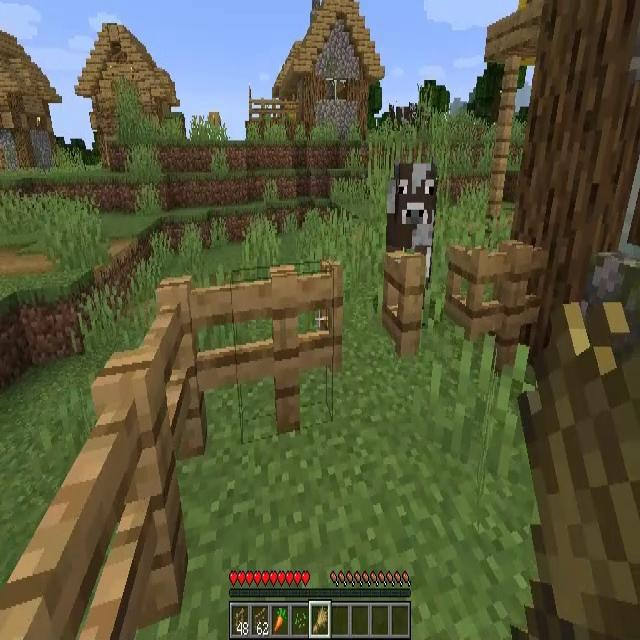cow: (385, 160, 434, 324), (389, 102, 417, 131)
